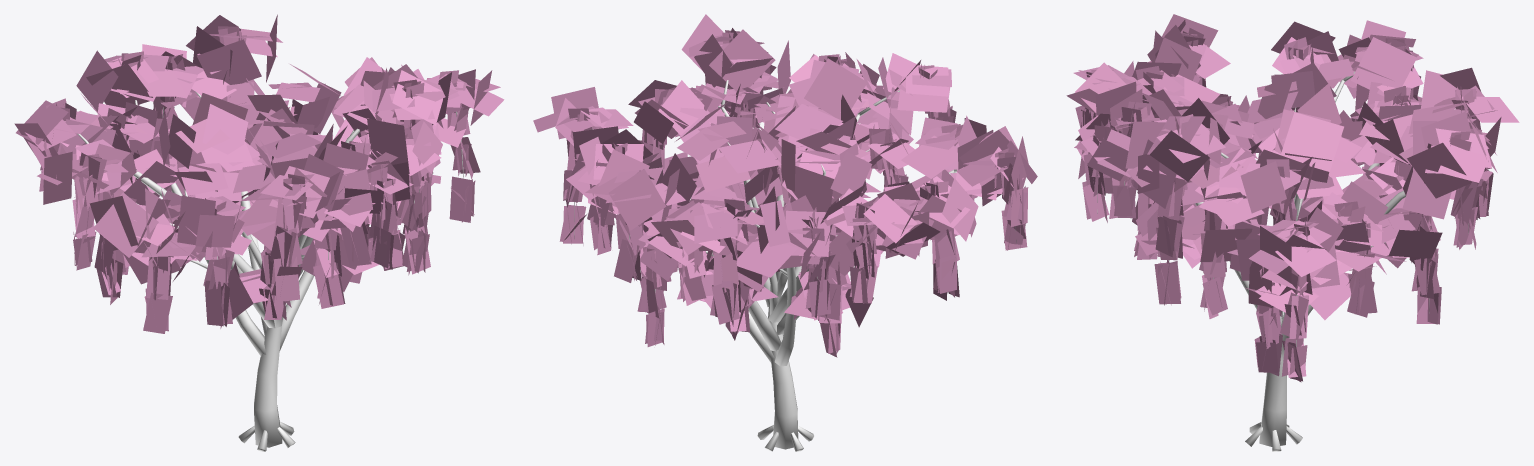
File: SM_Sakura_Weeping_LOD1.fbx
The picture shows the model from 3 angles, left to right: view 1: azimuth 30°, elevation 25°; view 2: azimuth 150°, elevation 25°; view 3: azimuth 270°, elevation 25°; orthographic projection. The views are drawn at different scales.
Parts seen in each view (by area): view 1: SM_Sakura_Weeping_LOD1; view 2: SM_Sakura_Weeping_LOD1; view 3: SM_Sakura_Weeping_LOD1.
Boxes of the visible parts, bbox=[...] form: SM_Sakura_Weeping_LOD1: bbox=[14, 14, 504, 451]; SM_Sakura_Weeping_LOD1: bbox=[533, 14, 1037, 451]; SM_Sakura_Weeping_LOD1: bbox=[1066, 14, 1519, 451].
Bounding box in the file's own units: 10.19 × 8.56 × 7.99.
